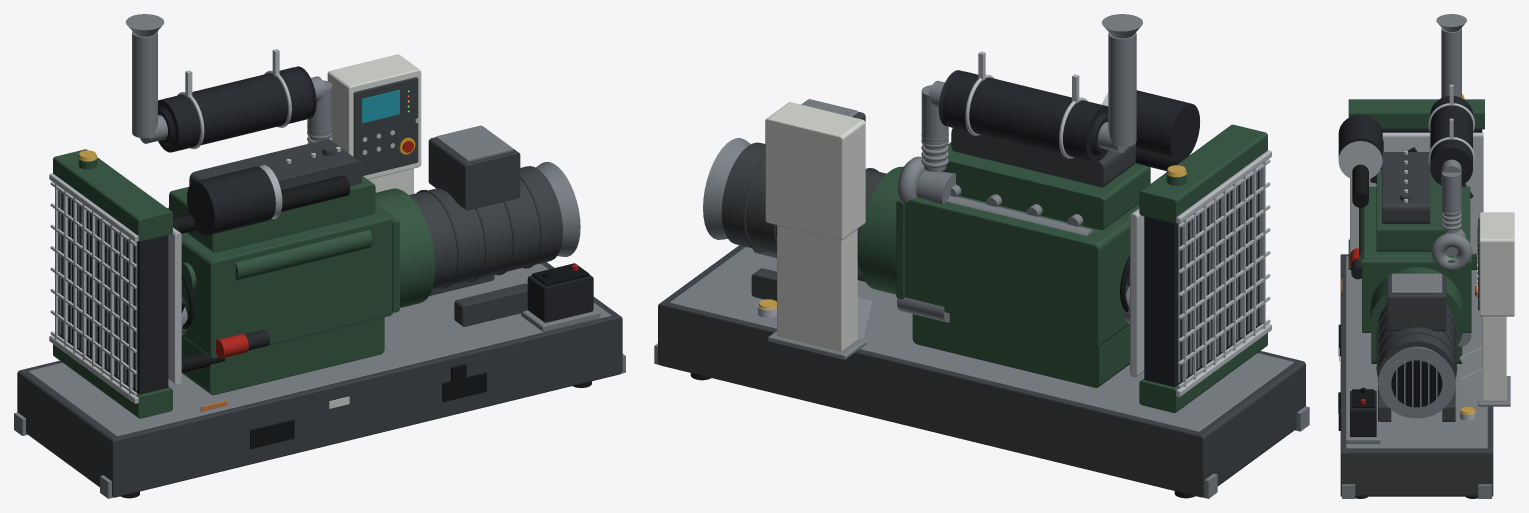
The model's file is generator.glb.
The picture shows the model from 3 angles, left to right: view 1: azimuth 30°, elevation 25°; view 2: azimuth 150°, elevation 25°; view 3: azimuth 270°, elevation 25°; orthographic projection. The views are drawn at different scales.
Visible parts, largest first — view 1: base_fuel_tank, engine_block, skid_deck_plate, alternator_frame, radiator_core, silencer_body, engine_sump, cylinder_head, radiator_top_tank, air_filter_canister, alternator_terminal_box, control_door_face (+25 smaller); view 2: base_fuel_tank, engine_block, skid_deck_plate, control_enclosure, radiator_core, panel_pedestal, silencer_body, engine_sump, cylinder_head, radiator_top_tank, alternator_frame, valve_cover (+22 smaller); view 3: base_fuel_tank, skid_deck_plate, control_enclosure, valve_cover, fan_shroud_ring, block_flange_front, cylinder_head, radiator_top_tank, alternator_end_bell, alternator_terminal_box, alternator_frame, panel_pedestal (+28 smaller).
Boxes of the visible parts, x1,y1,x2,y2 form: base_fuel_tank: (17, 262, 622, 497); engine_block: (167, 207, 393, 358); skid_deck_plate: (28, 263, 611, 435); alternator_frame: (409, 166, 562, 289); radiator_core: (58, 190, 168, 394); silencer_body: (158, 67, 312, 152); engine_sump: (181, 317, 384, 395); cylinder_head: (169, 175, 375, 252); radiator_top_tank: (53, 149, 172, 241); air_filter_canister: (187, 166, 275, 235); alternator_terminal_box: (428, 126, 520, 210); control_door_face: (353, 77, 418, 175); base_fuel_tank: (658, 245, 1305, 497); engine_block: (904, 195, 1139, 348); skid_deck_plate: (670, 247, 1293, 431); control_enclosure: (765, 102, 865, 240); radiator_core: (1144, 169, 1261, 387); panel_pedestal: (777, 225, 857, 351); silencer_body: (942, 71, 1108, 162); engine_sump: (912, 313, 1129, 387); cylinder_head: (941, 142, 1150, 229); radiator_top_tank: (1139, 124, 1267, 223); alternator_frame: (721, 142, 886, 274); valve_cover: (951, 128, 1136, 187); base_fuel_tank: (1340, 254, 1493, 496); skid_deck_plate: (1346, 256, 1487, 448); control_enclosure: (1479, 212, 1514, 316); valve_cover: (1382, 152, 1430, 223); fan_shroud_ring: (1350, 132, 1483, 254); block_flange_front: (1362, 259, 1471, 332); cylinder_head: (1376, 169, 1446, 251); radiator_top_tank: (1348, 99, 1484, 129); alternator_end_bell: (1378, 346, 1455, 418); alternator_terminal_box: (1387, 275, 1446, 331); alternator_frame: (1378, 304, 1455, 378); panel_pedestal: (1482, 316, 1506, 401).
Bounding box in the file's own units: 3.55 × 2.7 × 1.32.
